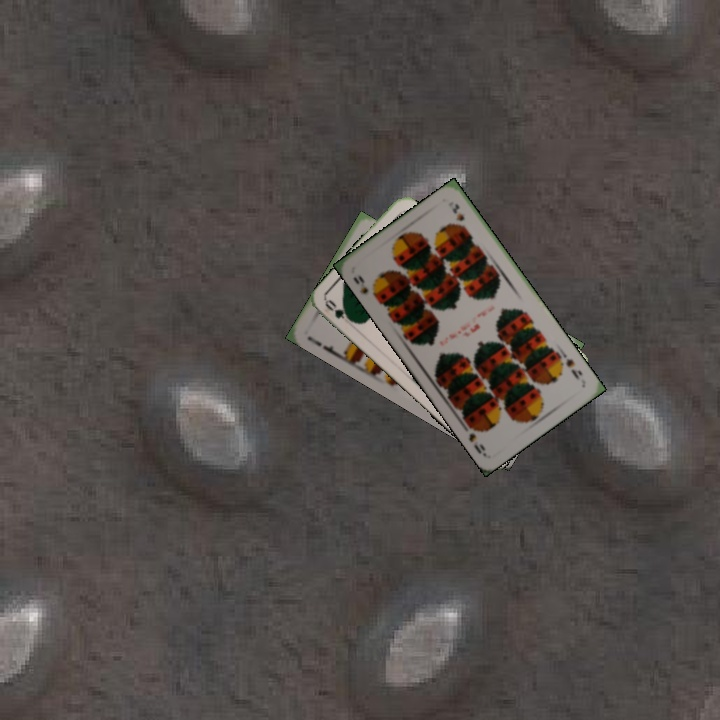E7: (303, 332, 340, 358)
GO: (321, 295, 358, 326)
S9: (349, 272, 380, 302), (562, 354, 585, 383)
